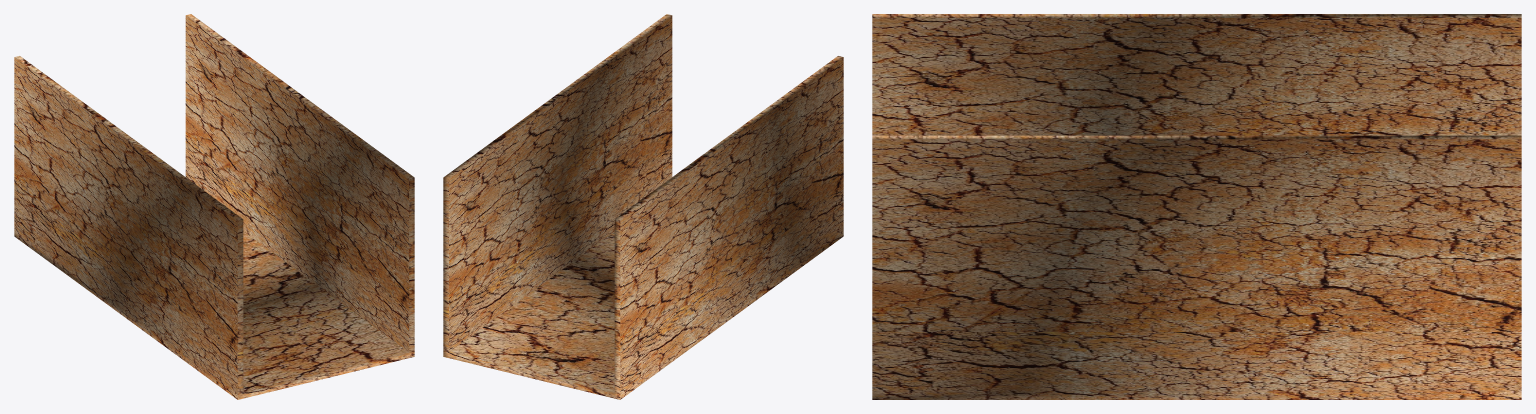
File: Pasillo6.obj
3 renders of one model, left to right at view 1: azimuth 30°, elevation 25°; view 2: azimuth 150°, elevation 25°; view 3: azimuth 270°, elevation 25°, orthographic. The views are drawn at different scales.
Parts seen in each view (by area): view 1: Pasillo034; view 2: Pasillo034; view 3: Pasillo034.
Boxes of the visible parts, x1,y1,x2,y2 form: Pasillo034: [14, 14, 414, 399]; Pasillo034: [443, 14, 843, 399]; Pasillo034: [872, 14, 1521, 399].
Bounding box in the file's own units: 126 × 122 × 276.
